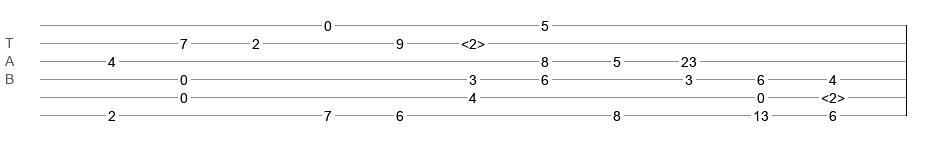0: (180, 72, 188, 82), (180, 90, 188, 100), (324, 18, 332, 28), (757, 90, 765, 100)
13: (753, 108, 769, 118)
2: (108, 108, 116, 118), (252, 36, 260, 46)
23: (681, 54, 697, 64)
3: (469, 72, 477, 82), (685, 72, 693, 82)
4: (108, 54, 116, 64), (469, 90, 477, 100), (829, 72, 837, 82)
5: (541, 18, 549, 28), (613, 54, 621, 64)
6: (396, 108, 404, 118), (541, 72, 549, 82), (757, 72, 765, 82), (829, 108, 837, 118)
7: (180, 36, 188, 46), (324, 108, 332, 118)
8: (541, 54, 549, 64), (613, 108, 621, 118)
9: (396, 36, 404, 46)
harmonic: (461, 36, 485, 46), (821, 90, 845, 100)
